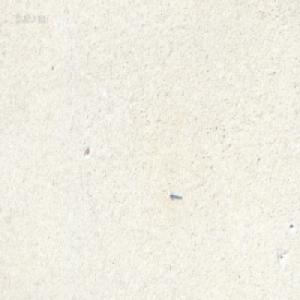Nail: (169, 191, 182, 199)
